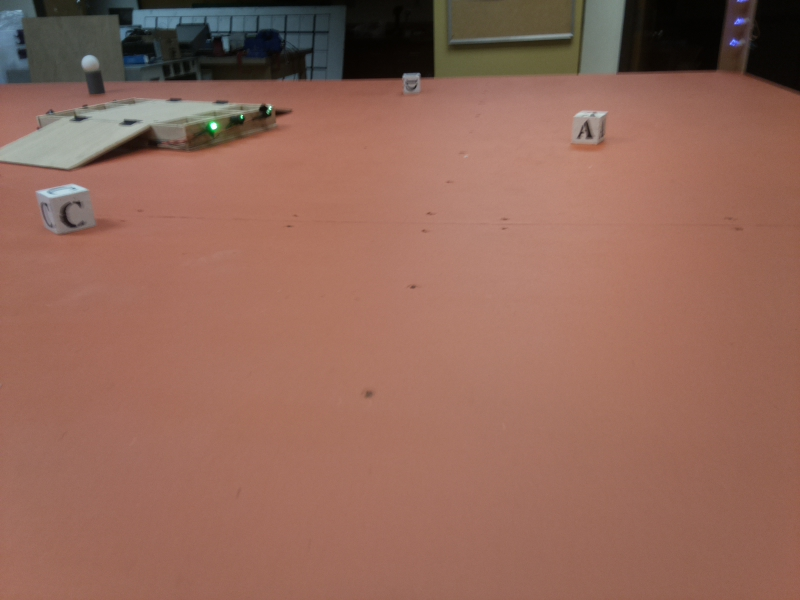blockA: (574, 107, 608, 146)
blockC: (34, 184, 96, 234)
blockD: (400, 70, 422, 91)
corner: (716, 1, 756, 73)
obstacle: (80, 53, 109, 92)
side: (151, 101, 277, 155)
slope: (1, 115, 152, 172), (274, 104, 297, 118)
